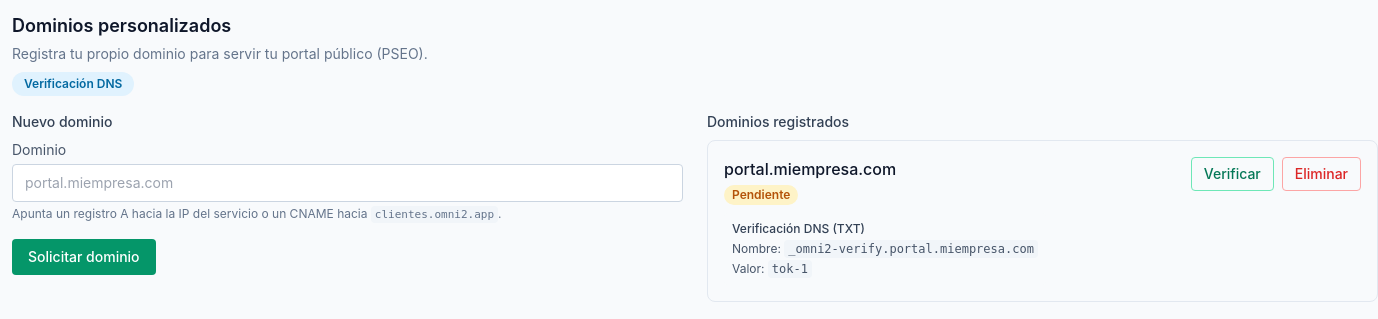
DominiosSection › verifica un dominio pendiente y lo activa
The width and height of the screenshot is (1378, 319).
expect the text "portal.miempresa.com" is shown: met, box [724, 159, 896, 179]
Click the button "Verificar" at [1232, 174], box [1191, 157, 1274, 191]
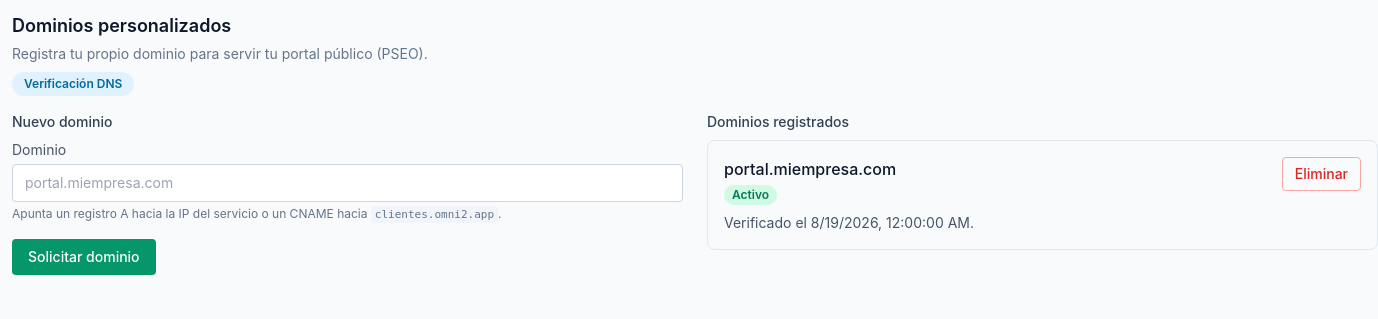
expect the text "Activo" is shown: met, box [724, 185, 777, 205]
expect the text "Pendiente" is gone: met
expect the button "Verificar" is gone: met
